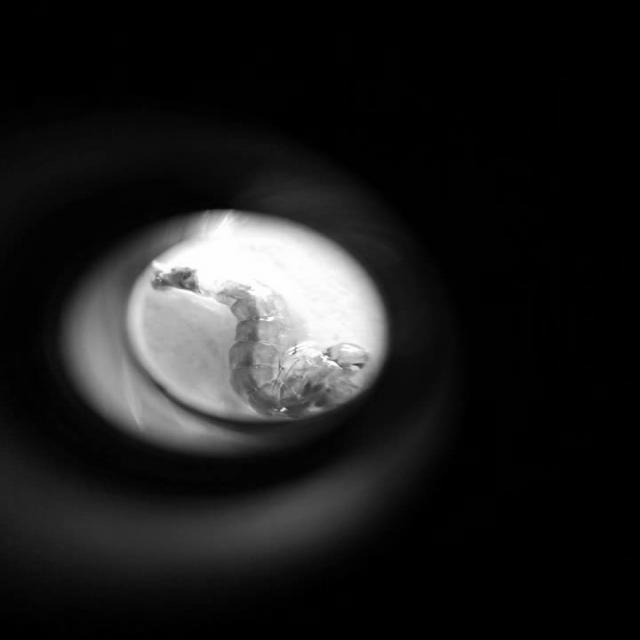larvas: (158, 270, 365, 415)
